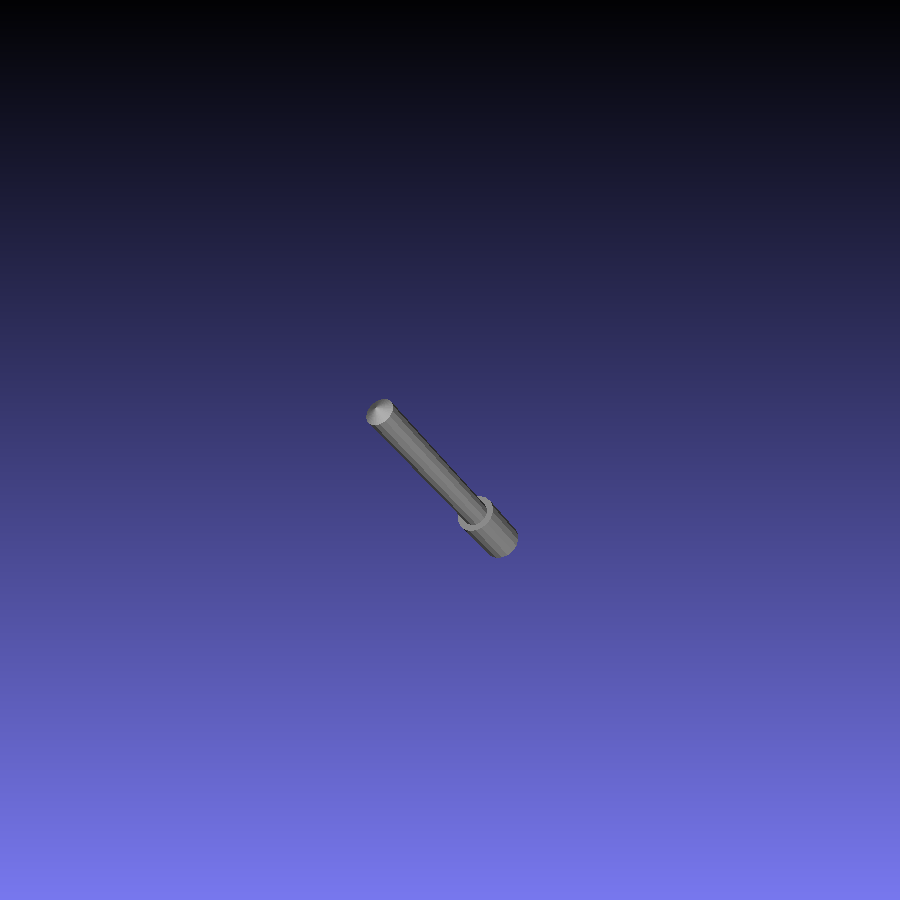cargo_g: (364, 397, 522, 558)
